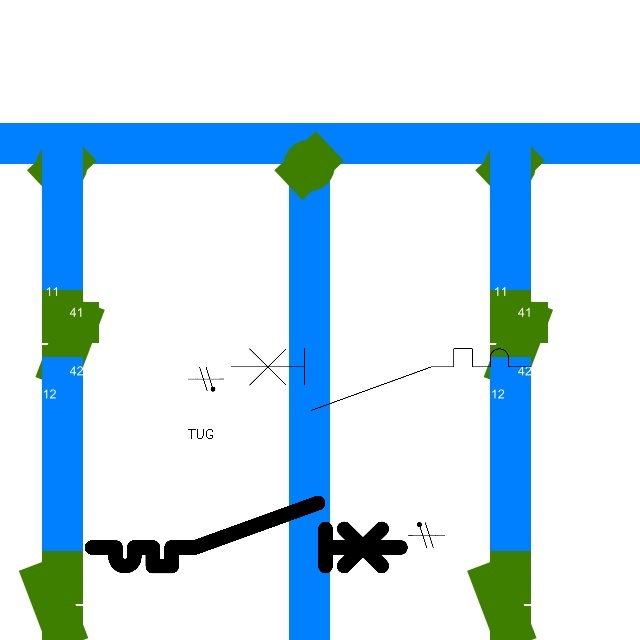interruptor_termomagnetico: (84, 495, 408, 574), (223, 341, 539, 418)
